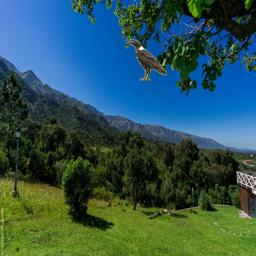Crow: (128, 39, 167, 81)
